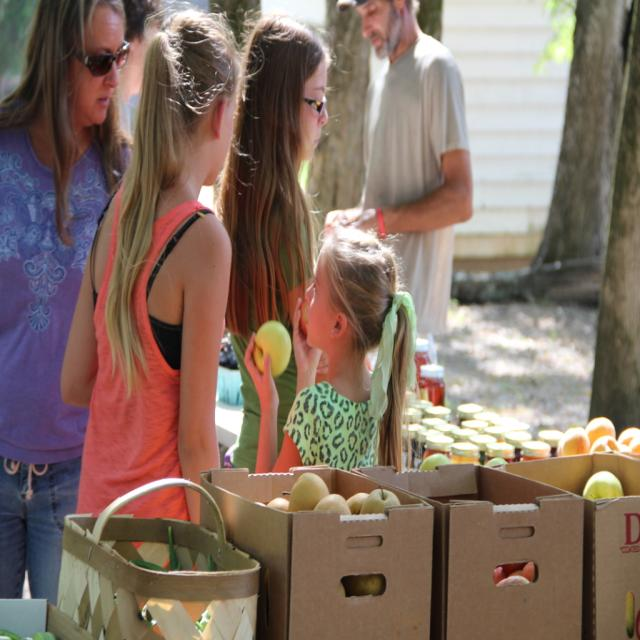Healty Apple: (256, 471, 385, 596), (556, 416, 640, 453), (253, 320, 292, 379), (358, 481, 401, 513), (582, 469, 624, 498), (496, 573, 529, 585), (300, 299, 311, 334), (626, 591, 634, 636), (504, 560, 526, 575), (522, 560, 534, 582), (493, 565, 506, 585), (512, 570, 520, 574)
